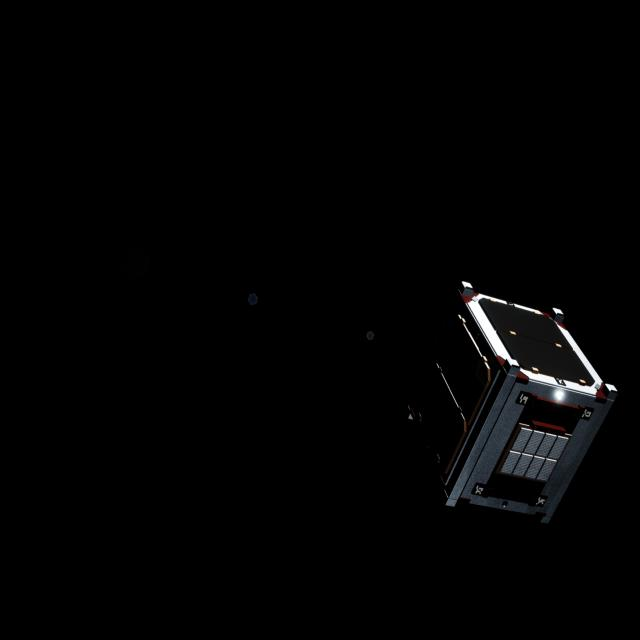satellite: (409, 269, 621, 525)
